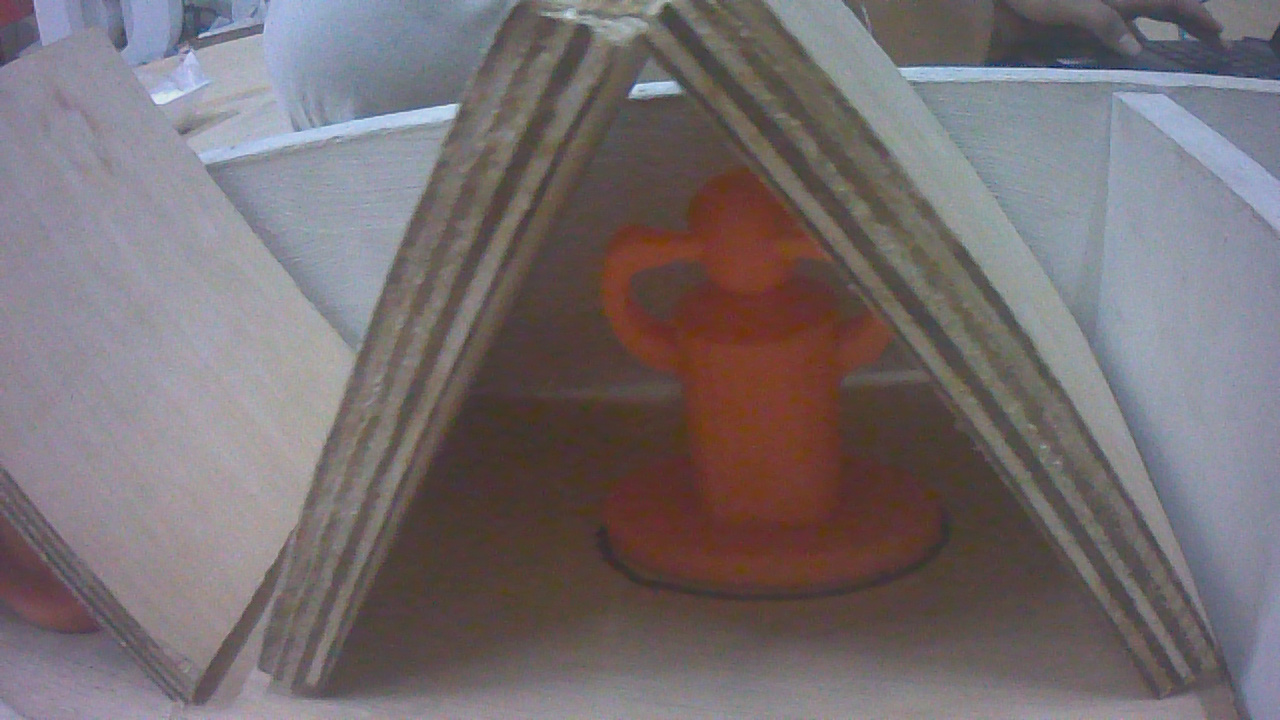real: (580, 133, 956, 616)
